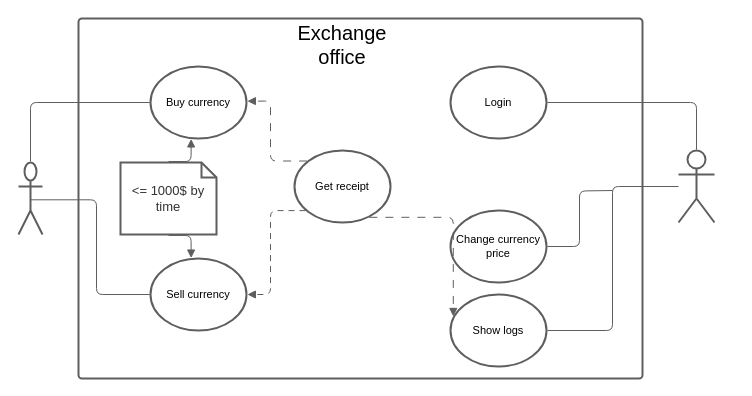
Some shapes in this 752 by 396 pixel diagram are drawn without their labels. Each missing label, with the box of its shape:
Customer: (17, 161, 43, 235)
Employee: (677, 149, 715, 223)
